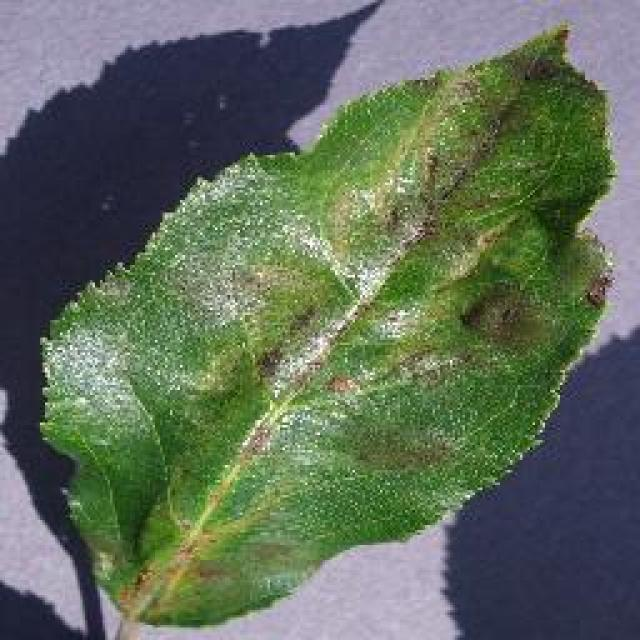apple scab disease: (35, 20, 617, 630)
